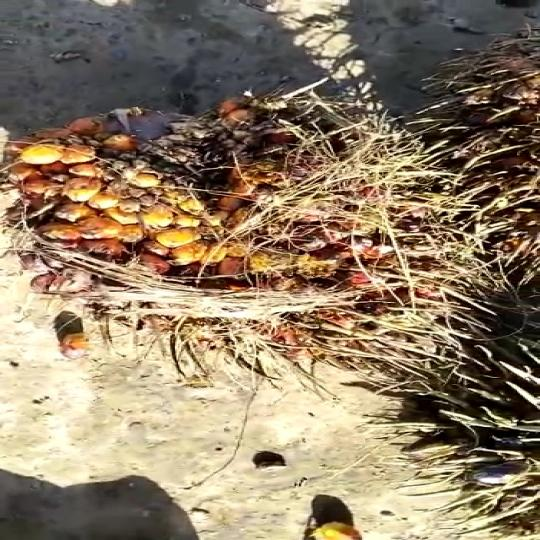terlalu masak: (0, 80, 476, 346)
